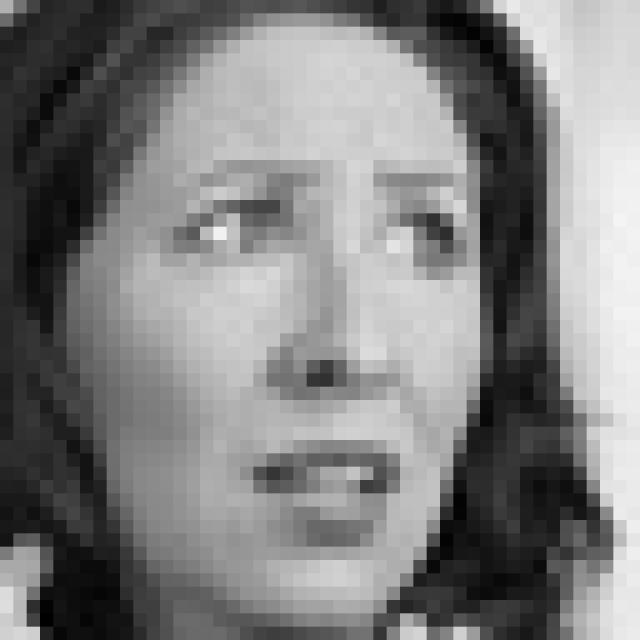fear: (164, 153, 481, 560)
